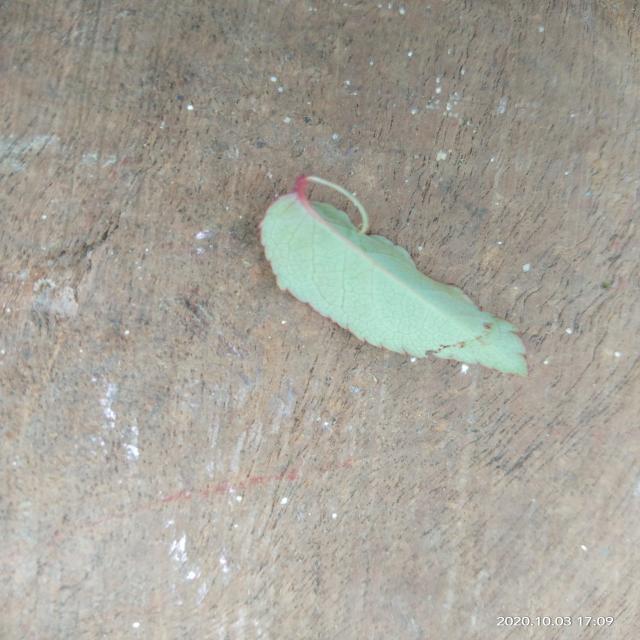rose: (260, 176, 527, 376)
